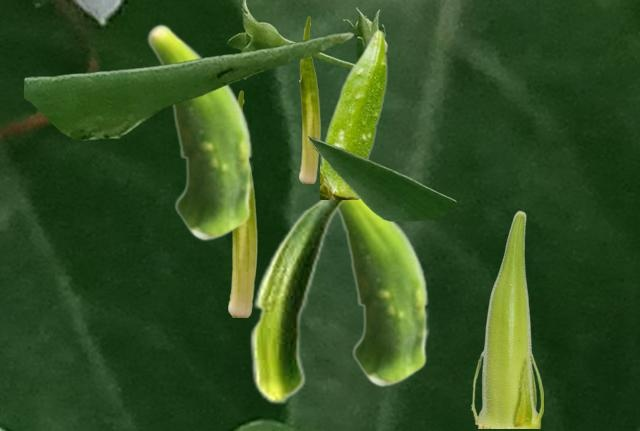okra: (146, 23, 253, 240), (249, 196, 349, 404), (338, 199, 429, 386), (470, 210, 542, 427), (320, 28, 387, 198), (228, 90, 256, 316), (299, 16, 319, 182)
